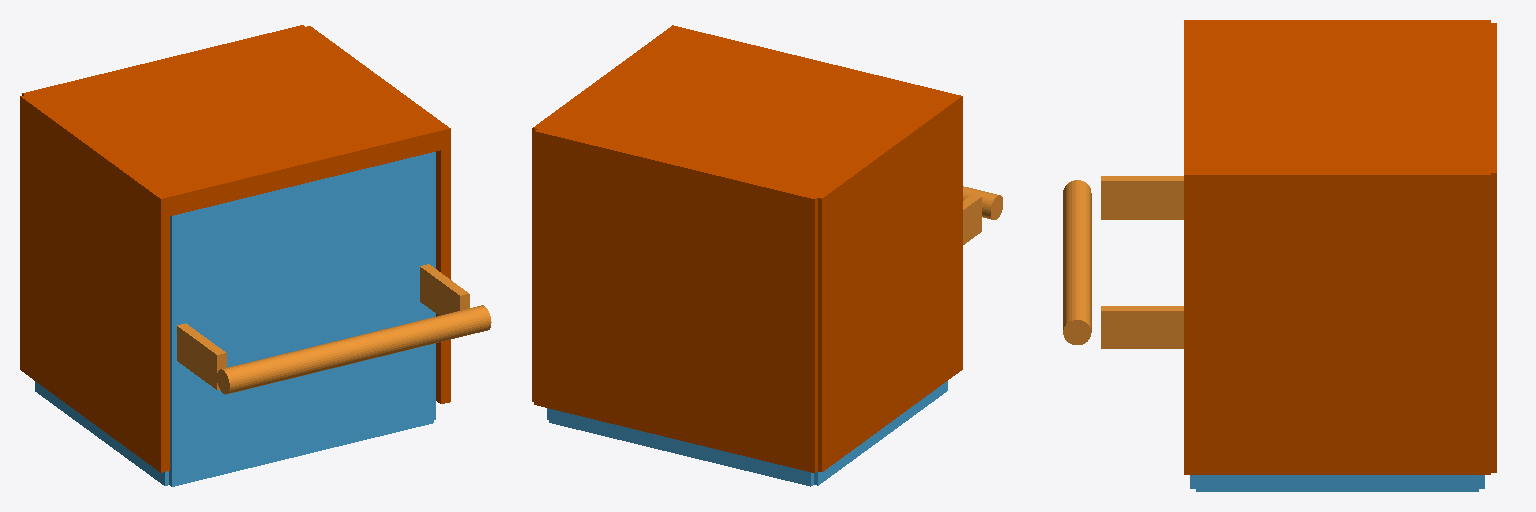
robot.urdf — bowl.urdf:
<?xml version="0.0" ?>
<robot name="bowl.urdf">

  <material name="yellow">
    <color rgba="1 1 0.4 1"/>
  </material>
  <material name="red">
    <color rgba="1 0 0 1"/>
  </material>
  <material name="blue">
    <color rgba=".17 .20 .38 1"/>
  </material>
  <material name="teal">
    <color rgba="0 .5 .5 1"/>
  </material>
  <material name="orange">
    <color rgba=".93 .6 .23 1"/>
  </material>

  <link name="world"/>

  <link name="base">
    <contact>
      <rolling_friction value="10.0"/>
      <lateral_friction value="10.0"/>
      <spinning_friction value="10.0"/>
    </contact>
    <inertial>
      <origin rpy="0 0 0" xyz="0.0 0.0 0.0"/>
       <mass value="0.1"/>
       <inertia ixx="1" ixy="0" ixz="0" iyy="1" iyz="0" izz="1"/>
    </inertial>
    <visual>
      <origin rpy="0 0 0" xyz="0 0 -0.2"/>
      <geometry>
        <box size="1.4 1.2 .1"/>
      </geometry>
    </visual>
    <visual>
      <!-- right -->
      <origin rpy="0 0 0" xyz="0 -.6 0"/>
      <geometry>
        <box size="1.4 .05 1.4"/>
      </geometry>
    </visual>
    <visual>
      <!-- left -->
      <origin rpy="0 0 0" xyz="0 .6 0"/>
      <geometry>
        <box size="1.4 .05 1.4"/>
      </geometry>
    </visual>
    <visual>
      <!-- front -->
      <origin rpy="0 0 0" xyz=".7 0 0"/>
      <geometry>
        <box size=".05 1.2 1.4"/>
      </geometry>
    </visual>
    <visual>
      <!-- back -->
      <origin rpy="0 0 0" xyz="-.7 0 0"/>
      <geometry>
        <box size=".05 1.2 1.4"/>
      </geometry>
    </visual>

    <collision>
      <!--Bottom --> 
      <origin rpy="0 0 0" xyz="0 0 -.2"/>
      <geometry>
        <box size="1.4 1.2 .1"/>
      </geometry>
    </collision>
    <collision>
      <!-- right -->
      <origin rpy="0 0 0" xyz="0 -.6 0"/>
      <geometry>
        <box size="1.4 .05 1.4"/>
      </geometry>
    </collision>
    <collision>
      <!-- left -->
      <origin rpy="0 0 0" xyz="0 .6 0"/>
      <geometry>
        <box size="1.4 .05 1.4"/>
      </geometry>
    </collision>
    <collision>
      <!-- front -->
      <origin rpy="0 0 0" xyz=".7 0 0"/>
      <geometry>
        <box size=".05 1.2 1.4"/>
      </geometry>
    </collision>
    <collision>
      <!-- back -->
      <origin rpy="0 0 0" xyz="-.7 0 0"/>
      <geometry>
        <box size=".05 1.2 1.4"/>
      </geometry>
    </collision>
  </link>

  <link name="handle_r">
    <contact>
      <rolling_friction value="1000.0"/>
      <lateral_friction value="1000.0"/>
      <!-- lateral_friction was key to not making the gripper slide on the handle--> 
      <spinning_friction value="1000.0"/>
      <contact_cfm value="0.0"/>
      <contact_erp value="1.0"/>
    </contact>
    <inertial>
      <origin rpy="0 1.57 0" xyz="0 0 0"/>
      <mass value=".1"/>
      <inertia ixx="1" ixy="0" ixz="0" iyy="1" iyz="0" izz="1"/>
    </inertial>
    <visual>
      <origin rpy="0 1.57 0" xyz="0 0 0"/>
      <geometry>
        <cylinder radius="0.06" length="1.4"/>
      </geometry>
      <material name="orange"/>
    </visual>
    <collision>
      <origin rpy="0 1.57 0" xyz="0 0 0"/>
      <geometry>
        <cylinder radius="0.06" length="1.4"/>
      </geometry>
    </collision>
  </link>

  <link name="handle_plate_far">
    <contact>
      <rolling_friction value="1000.0"/>
      <lateral_friction value="1000.0"/>
      <spinning_friction value="1000.0"/>
      <contact_cfm value="0.0"/>
      <contact_erp value="1.0"/>
    </contact>
    <inertial>
      <origin rpy="0 1.57 0" xyz="0 0 0"/>
      <mass value=".1"/>
      <inertia ixx="1" ixy="0" ixz="0" iyy="1" iyz="0" izz="1"/>
    </inertial>
    <visual>
      <origin rpy="0 0 0" xyz="0 0 0"/>
      <geometry>
        <box size=".05 .6 .18"/>
      </geometry>
      <material name="orange"/>
    </visual>
    <collision>
      <origin rpy="0 0 0" xyz="0 0 0"/>
      <geometry>
        <box size=".05 .6 .18"/>
      </geometry>
    </collision>
  </link>

  <link name="handle_plate_near">
    <contact>
      <rolling_friction value="1000.0"/>
      <lateral_friction value="1000.0"/>
      <spinning_friction value="1000.0"/>
      <contact_cfm value="0.0"/>
      <contact_erp value="1.0"/>
    </contact>
    <inertial>
      <origin rpy="0 1.57 0" xyz="0 0 0"/>
      <mass value=".1"/>
      <inertia ixx="1" ixy="0" ixz="0" iyy="1" iyz="0" izz="1"/>
    </inertial>
    <visual>
      <origin rpy="0 0 0" xyz="0 0 0"/>
      <geometry>
        <box size=".05 .6 .18"/>
      </geometry>
      <material name="orange"/>
    </visual>
    <collision>
      <origin rpy="0 0 0" xyz="0 0 0"/>
      <geometry>
        <box size=".05 .6 .18"/>
      </geometry>
    </collision>
  </link>

  <link name="frame">
    <contact>
      <lateral_friction value="0.5"/>
      <rolling_friction value="0.0"/>
      <contact_cfm value="0.0"/>
      <contact_erp value="1.0"/>
    </contact>
    <inertial>
      <origin rpy="0 0 0" xyz="0.0 0.0 0.0"/>
       <mass value=".1"/>
       <inertia ixx="1" ixy="0" ixz="0" iyy="1" iyz="0" izz="1"/>
    </inertial>
    <visual>
      <!--Top-->
      <origin rpy="0 0 0" xyz="0 0 .65"/>
      <geometry>
        <box size="1.5 1.3 .1"/>
      </geometry>
    </visual>
    <visual>
      <!--Right-->
      <origin rpy="0 0 0" xyz="0 .65 0"/>
      <geometry>
        <box size="1.5 .05 1.4"/>
      </geometry>
    </visual>
    <visual>
      <!--Front-->
      <origin rpy="0 0 0" xyz=".75 0 0"/>
      <geometry>
        <box size=".05 1.3 1.4"/>
      </geometry>
    </visual>
    <visual>
      <!--Back-->
      <origin rpy="0 0 0" xyz="-.75 0 0"/>
      <geometry>
        <box size=".05 1.3 1.4"/>
      </geometry>
    </visual>

    <collision>
      <!--Top-->
      <origin rpy="0 0 0" xyz="0 0 .7"/>
      <geometry>
        <box size="1.5 1.3 .1"/>
      </geometry>
    </collision>
    <collision>
      <!--Right-->
      <origin rpy="0 0 0" xyz="0 .65 0"/>
      <geometry>
        <box size="1.5 .05 .6"/>
      </geometry>
    </collision>
    <collision>
      <!--Front-->
      <origin rpy="0 0 0" xyz=".75 0 0"/>
      <geometry>
        <box size=".05 1.3 .6"/>
      </geometry>
    </collision>
    <collision>
      <!--Back-->
      <origin rpy="0 0 0" xyz="-.75 0 0"/>
      <geometry>
        <box size=".05 1.3 .6"/>
      </geometry>
    </collision>
  </link>

  <joint name="frame_joint" type="fixed">
    <parent link="world"/>
    <child link="frame"/>
  </joint>

  <joint name="base_frame_joint" type="prismatic">
    <origin rpy="0 0 0" xyz="0 0 -.1"/>
    <parent link="frame"/>
    <child link="base"/>
    <axis rpy="0 0 0" xyz="0 1 0"/>
    <limit effort="100" lower="-1.25" upper="0" velocity="100"/>
    <dynamics damping="0.0" friction=".01"/>
  </joint>

  <joint name="handle_plate_far_joint" type="fixed">
    <origin rpy="0 0 0" xyz="-0.65 -0.7 0.03"/>
    <parent link="base"/>
    <child link="handle_plate_far"/>
  </joint>

  <joint name="handle_plate_near_joint" type="fixed">
    <origin rpy="0 0 0" xyz="0.65 -0.7 0.03"/>
    <parent link="base"/>
    <child link="handle_plate_near"/>
  </joint>

  <joint name="handle_r_joint" type="fixed">
    <origin rpy="0 0 0" xyz="0 -1.1 0.03"/>
    <parent link="base"/>
    <child link="handle_r"/>
  </joint>

</robot>

--- What the picture shows (computed from the rendered views, not written in the file) ---
3 views of the same robot in one strip: view 1: azimuth 30°, elevation 25°; view 2: azimuth 150°, elevation 25°; view 3: azimuth 270°, elevation 25° (orthographic).
Model bowl.urdf with 6 links and 5 joints (1 prismatic, 4 fixed), rooted at world, posed all joints at 0.
Links seen in each view (by area): view 1: frame, base, handle_r, handle_plate_far, handle_plate_near; view 2: frame, base, handle_plate_far, handle_r; view 3: frame, base, handle_r, handle_plate_far, handle_plate_near.
Boxes of the visible links, x1,y1,x2,y2 form: frame: (20,25,450,472); base: (35,152,435,486); handle_r: (217,305,491,394); handle_plate_far: (177,323,226,389); handle_plate_near: (420,264,469,315); frame: (532,25,962,472); base: (547,381,947,486); handle_plate_far: (963,195,981,244); handle_r: (963,186,1002,219); frame: (1184,20,1496,474); base: (1190,475,1484,491); handle_r: (1063,180,1091,344); handle_plate_far: (1101,176,1183,219); handle_plate_near: (1101,306,1183,348).
Bounding box of the posed robot: 1.55 × 1.83 × 1.5 m (x, y, z).
Geometry: primitives only (box / cylinder / sphere), no mesh files.